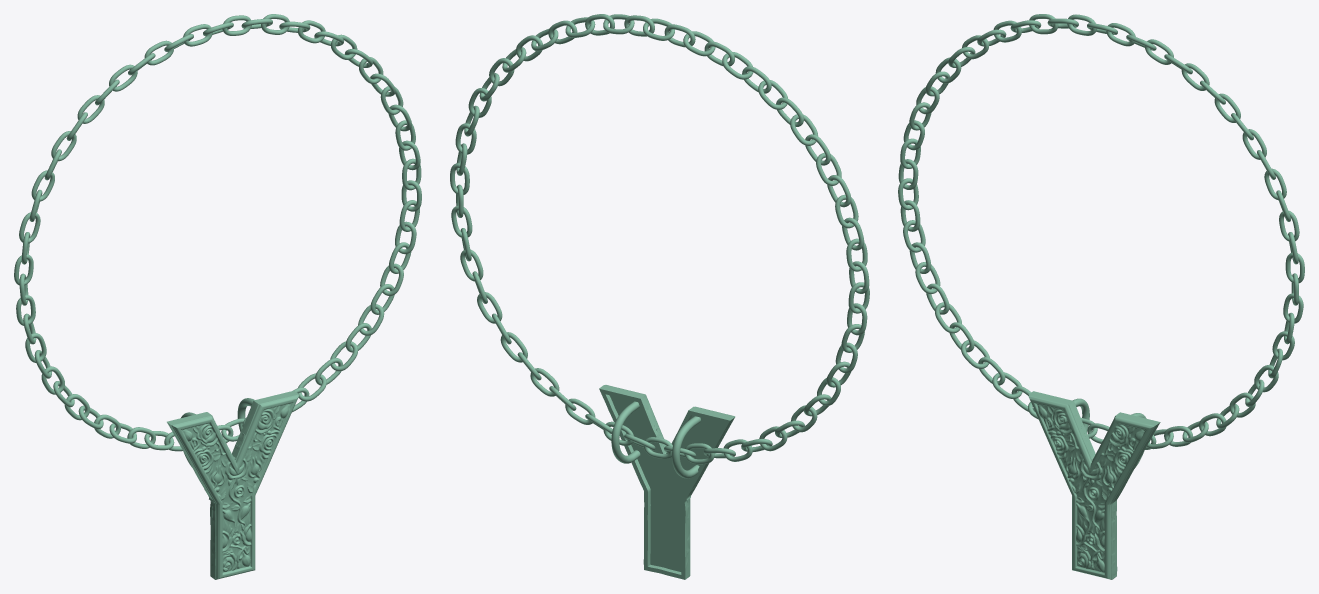
3 views of the same model, side by side, from view 1: azimuth 30°, elevation 25°; view 2: azimuth 150°, elevation 25°; view 3: azimuth 330°, elevation 25° (orthographic). The views are drawn at different scales.
Visible parts, largest first — view 1: Pingente Alfabeto3 Letra Y Render.3dm, object 1; view 2: Pingente Alfabeto3 Letra Y Render.3dm, object 1; view 3: Pingente Alfabeto3 Letra Y Render.3dm, object 1.
Boxes of the visible parts, x1,y1,x2,y2 form: Pingente Alfabeto3 Letra Y Render.3dm: (14, 14, 421, 451); object 1: (167, 390, 298, 579); Pingente Alfabeto3 Letra Y Render.3dm: (450, 14, 869, 464); object 1: (599, 385, 735, 579); Pingente Alfabeto3 Letra Y Render.3dm: (898, 14, 1304, 449); object 1: (1028, 391, 1160, 579).
Bounding box in the file's own units: 2.45 × 3.15 × 0.2879.
